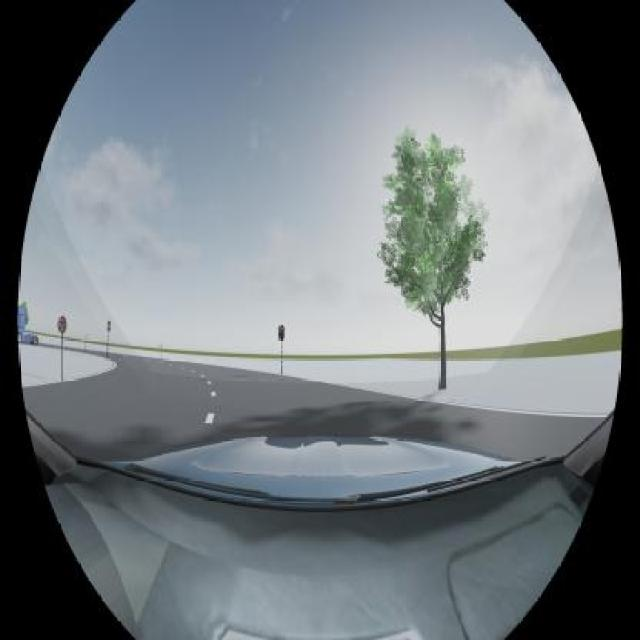forb_speed_over_70: (58, 315, 67, 334)
